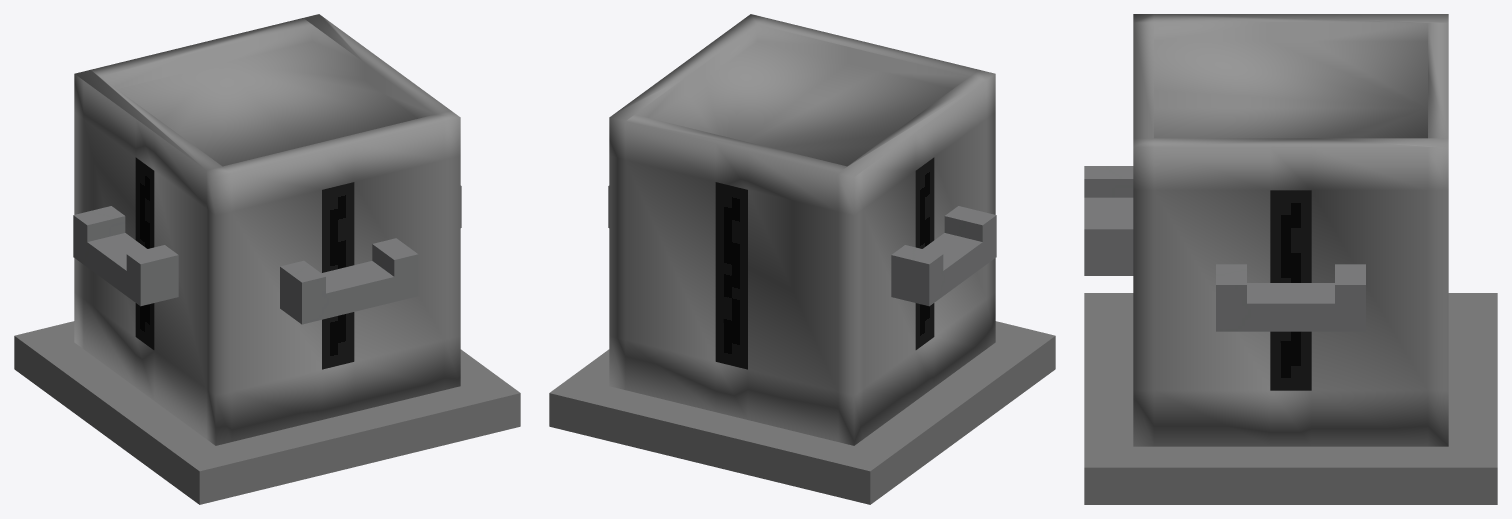
Rendered from mixer.obj.
The picture shows the model from 3 angles, left to right: view 1: azimuth 30°, elevation 25°; view 2: azimuth 150°, elevation 25°; view 3: azimuth 270°, elevation 25°; orthographic projection. The views are drawn at different scales.
Parts seen in each view (by area): view 1: Cube_Cube.001, FloorPlate_Cube.005, FluidConnector_Cube.001, FluidConnector_Cube.022, GlassPane_Plane.000_Plane.001, GlassPane_Plane.1_Plane; view 2: Cube_Cube.001, FloorPlate_Cube.005, FluidConnector_Cube.022, GlassPane_Plane.003_Plane.003, GlassPane_Plane.1_Plane; view 3: Cube_Cube.001, FloorPlate_Cube.005, FluidConnector_Cube.000, GlassPane_Plane.002_Plane.002, FluidConnector_Cube.001.
Boxes of the visible parts, x1,y1,x2,y2 form: Cube_Cube.001: (74, 14, 460, 445); FloorPlate_Cube.005: (14, 321, 520, 504); FluidConnector_Cube.001: (280, 238, 418, 324); FluidConnector_Cube.022: (73, 206, 178, 306); GlassPane_Plane.000_Plane.001: (322, 182, 354, 369); GlassPane_Plane.1_Plane: (135, 157, 154, 349); Cube_Cube.001: (609, 14, 995, 445); FloorPlate_Cube.005: (549, 321, 1055, 504); FluidConnector_Cube.022: (891, 206, 996, 306); GlassPane_Plane.003_Plane.003: (715, 182, 747, 369); GlassPane_Plane.1_Plane: (915, 157, 934, 349); Cube_Cube.001: (1133, 14, 1448, 446); FloorPlate_Cube.005: (1084, 293, 1497, 504); FluidConnector_Cube.000: (1216, 264, 1365, 331); GlassPane_Plane.002_Plane.002: (1270, 190, 1311, 390); FluidConnector_Cube.001: (1084, 166, 1133, 275).
Size of the model in its own units: 1 by 0.9 by 1.
